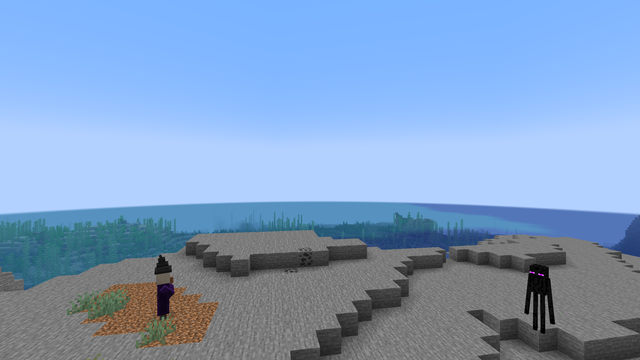endermens: (526, 261, 551, 333)
sorcieres: (151, 266, 173, 321)
